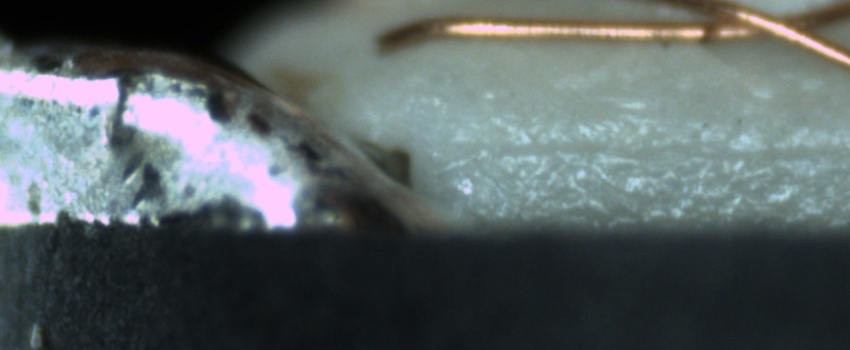CL: (693, 4, 842, 43)
DL: (476, 119, 850, 178)
